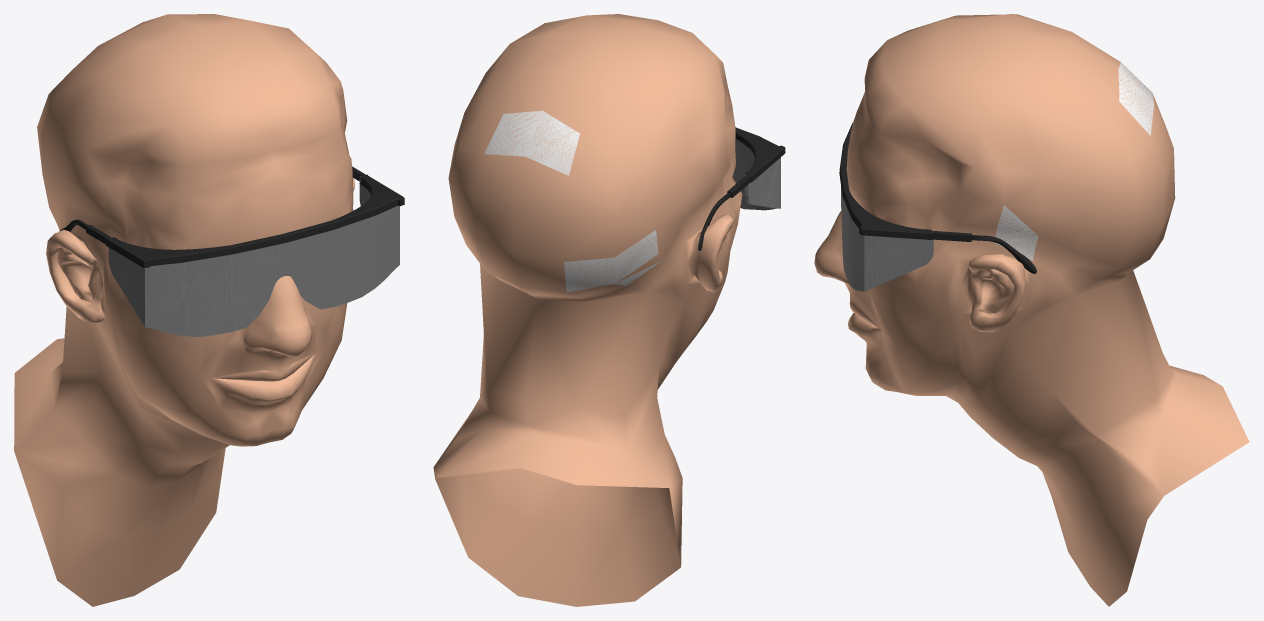
The model's file is SafetyGoggles.dae.
The picture shows the model from 3 angles, left to right: view 1: azimuth 30°, elevation 25°; view 2: azimuth 150°, elevation 25°; view 3: azimuth 270°, elevation 25°; orthographic projection. The views are drawn at different scales.
Parts seen in each view (by area): view 1: group_11 (×2), group_1 (×2), group_3, group_4; view 2: group_11 (×4), group_1 (×2), group_3; view 3: group_11 (×4), group_1 (×2), group_4.
Boxes of the visible parts, x1,y1,x2,y2 form: group_11 (×2): [14, 14, 354, 606]; group_1 (×2): [109, 205, 399, 337]; group_3: [105, 234, 285, 267]; group_4: [283, 174, 404, 242]; group_11 (×4): [433, 14, 742, 606]; group_1 (×2): [732, 138, 780, 210]; group_3: [735, 127, 785, 182]; group_11 (×4): [814, 14, 1249, 606]; group_1 (×2): [841, 186, 933, 291]; group_4: [839, 166, 933, 239].
Bounding box in the file's own units: 7.55 × 10.29 × 14.75.
